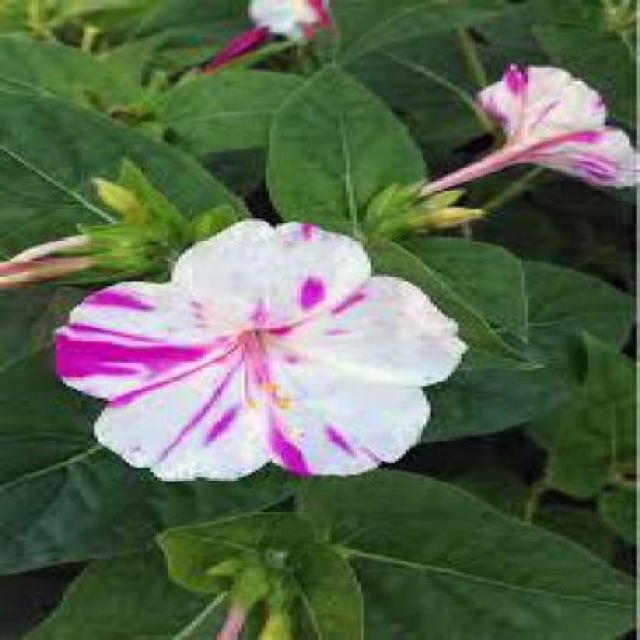flower: (59, 214, 458, 477), (410, 53, 624, 202)
